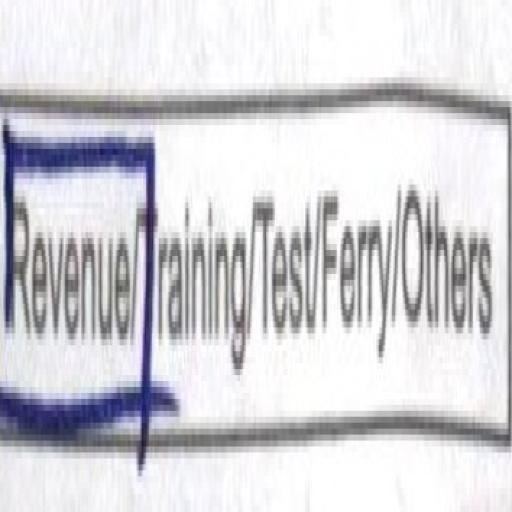check: (2, 6, 141, 512)
